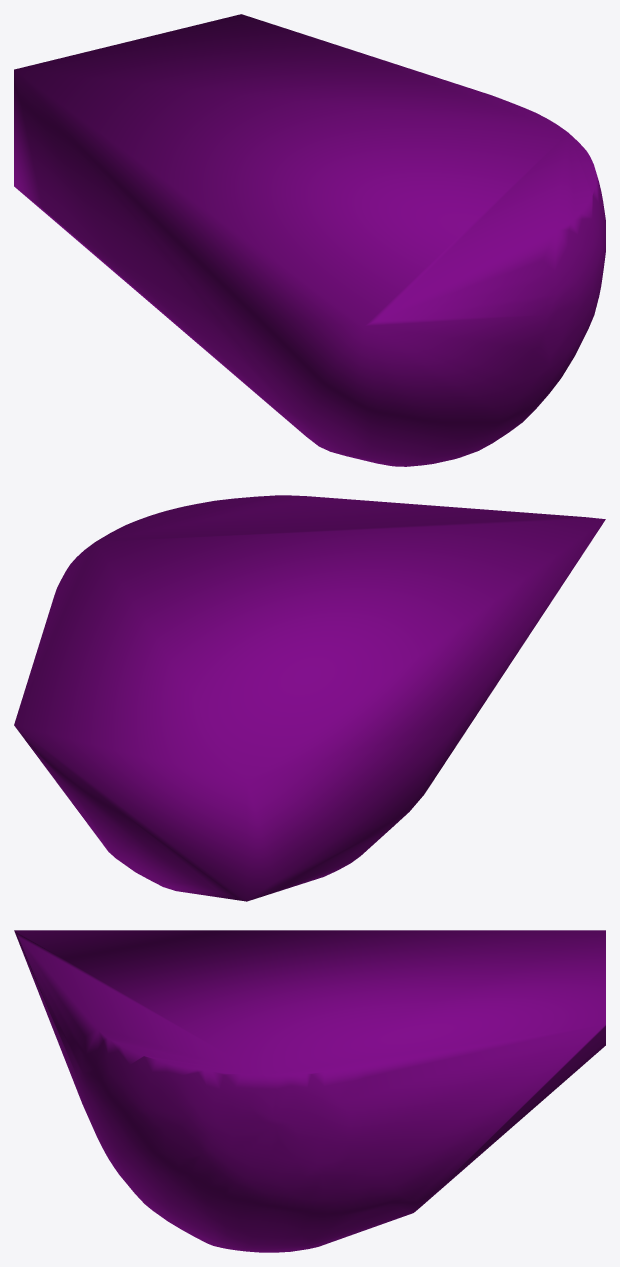
Rendered from bee_toy_1_coacd_single_link_urdf_convex_piece_11.obj.
3 renders of one model, top to bottom at view 1: azimuth 30°, elevation 25°; view 2: azimuth 150°, elevation 25°; view 3: azimuth 270°, elevation 25°, orthographic. The views are drawn at different scales.
Size of the model in its own units: 0.0668 by 0.0498 by 0.1129.
